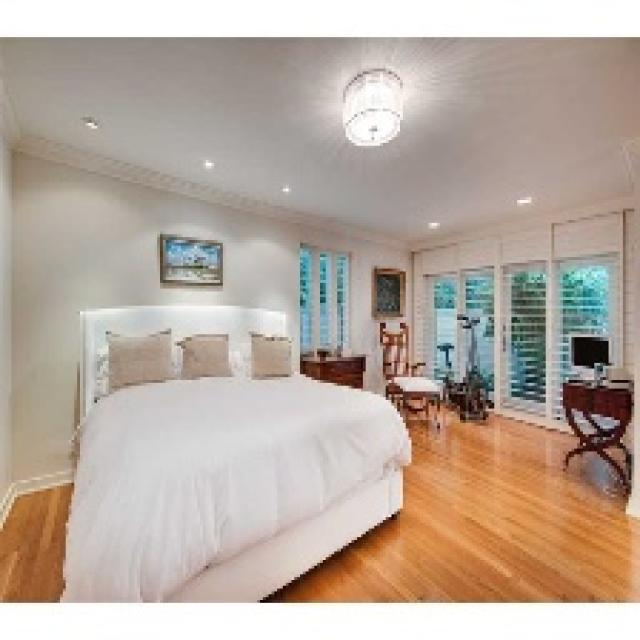Bed: (57, 303, 412, 600)
